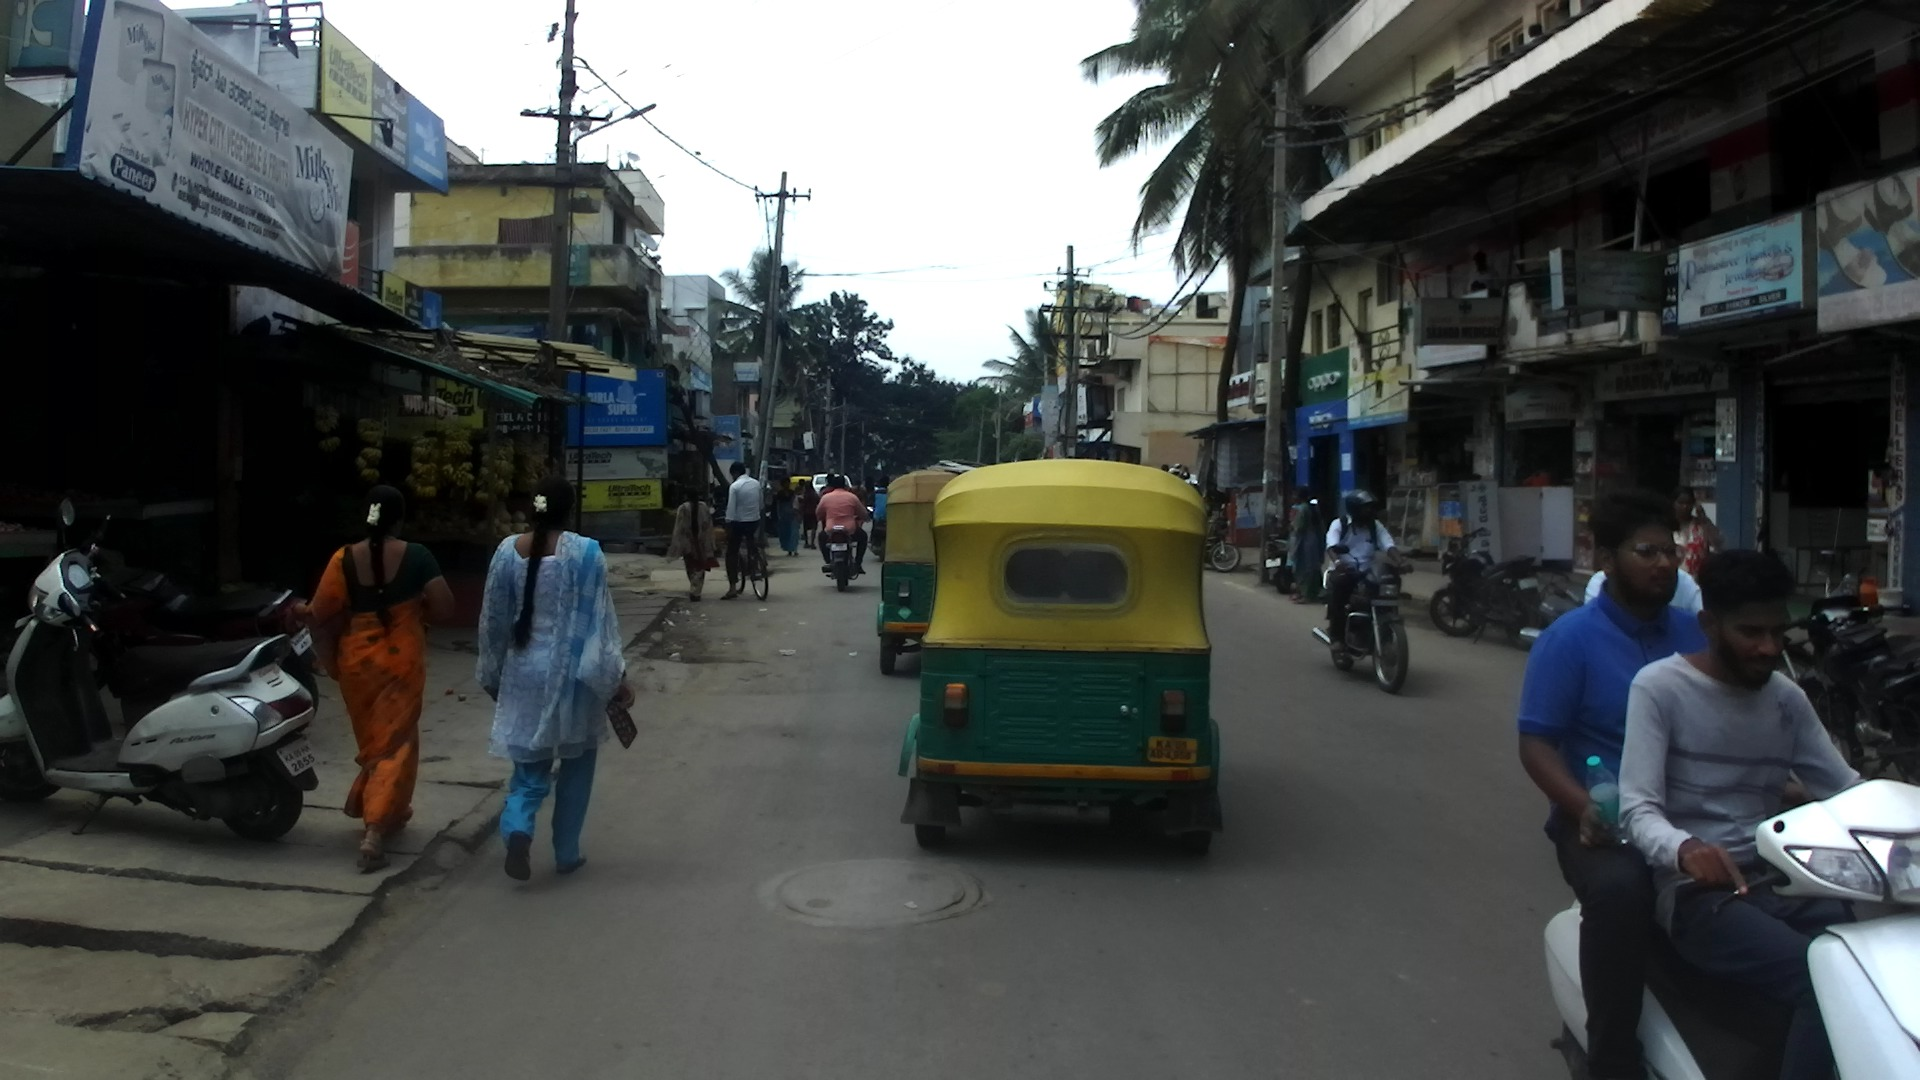autorickshaw: (897, 458, 1221, 854), (876, 459, 987, 675), (789, 475, 812, 493)
bicycle: (712, 513, 768, 600)
car: (812, 472, 851, 496)
motorcycle: (1548, 781, 1920, 1080), (1, 500, 316, 844), (77, 515, 319, 732), (1781, 592, 1919, 792), (1313, 546, 1423, 693), (1772, 632, 1862, 784), (1430, 527, 1543, 643), (1264, 499, 1320, 595), (1520, 570, 1585, 649), (820, 515, 864, 593), (1204, 501, 1241, 574), (867, 506, 885, 561), (708, 497, 729, 526), (707, 481, 728, 508), (765, 509, 776, 537)
person: (475, 476, 638, 880), (287, 483, 456, 872), (666, 485, 720, 602), (1669, 486, 1724, 580), (1287, 485, 1324, 604), (773, 476, 799, 556), (796, 481, 820, 551), (1468, 250, 1502, 295), (816, 474, 838, 528), (1521, 457, 1558, 488), (864, 477, 875, 518), (795, 480, 806, 525), (1170, 464, 1189, 479), (850, 480, 864, 499), (1469, 281, 1486, 294), (1161, 463, 1170, 472)
rider: (1619, 546, 1868, 1078), (1515, 490, 1709, 1080), (1326, 488, 1409, 645), (1584, 567, 1703, 616), (722, 462, 764, 598), (815, 474, 870, 574), (870, 477, 891, 551), (1203, 479, 1228, 520), (821, 475, 853, 494), (764, 480, 774, 510), (874, 484, 879, 491)
